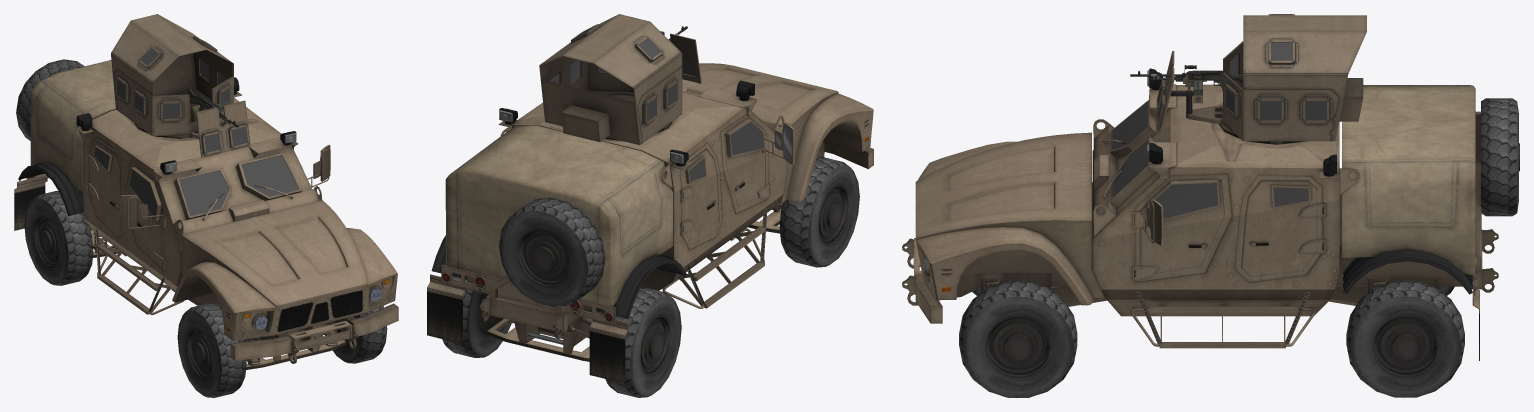
The model's file is NewJeep.fbx.
3 views of the same model, side by side, from view 1: azimuth 30°, elevation 25°; view 2: azimuth 150°, elevation 25°; view 3: azimuth 270°, elevation 25° (orthographic). The views are drawn at different scales.
Visible parts, largest first — view 1: hull_1, turret_1, passenger_side_back_wheel_1, passenger_side_front_wheel_1, glass_1, passenger_front_door_1, passenger_back_door_1, turret_glass_1, driver_side_front_wheel_1, passenger_front_window_1, driver_front_door_1, m240_1; view 2: hull_1, turret_1, passenger_side_front_wheel_1, passenger_side_back_wheel_1, passenger_front_door_1, passenger_back_door_1, driver_side_back_wheel_1, turret_glass_1, passenger_front_window_1; view 3: hull_1, turret_1, driver_side_back_wheel_1, driver_side_front_wheel_1, driver_back_door_1, driver_front_door_1, turret_glass_1, glass_1, driver_front_window_1, m240_1, driver_back_window_1, chains_1.
Boxes of the visible parts, x1,y1,x2,y2 form: hull_1: (14, 59, 398, 369); turret_1: (111, 14, 250, 157); passenger_side_back_wheel_1: (24, 191, 93, 285); passenger_side_front_wheel_1: (177, 303, 246, 397); glass_1: (179, 155, 298, 215); passenger_front_door_1: (120, 160, 166, 270); passenger_back_door_1: (87, 137, 124, 237); turret_glass_1: (116, 36, 249, 154); driver_side_front_wheel_1: (326, 306, 387, 363); passenger_front_window_1: (129, 169, 156, 217); driver_front_door_1: (295, 145, 330, 187); m240_1: (188, 87, 238, 127); hull_1: (427, 63, 873, 383); turret_1: (539, 14, 701, 144); passenger_side_front_wheel_1: (779, 157, 859, 267); passenger_side_back_wheel_1: (605, 287, 681, 397); passenger_front_door_1: (720, 114, 794, 213); passenger_back_door_1: (680, 142, 722, 249); driver_side_back_wheel_1: (442, 276, 511, 357); turret_glass_1: (549, 24, 695, 124); passenger_front_window_1: (730, 122, 763, 155); hull_1: (902, 68, 1519, 360); turret_1: (1156, 14, 1366, 144); driver_side_back_wheel_1: (1346, 281, 1464, 397); driver_side_front_wheel_1: (959, 281, 1077, 397); driver_back_door_1: (1235, 175, 1325, 282); driver_front_door_1: (1132, 174, 1232, 282); turret_glass_1: (1157, 14, 1328, 127); glass_1: (1112, 103, 1147, 197); driver_front_window_1: (1150, 183, 1218, 218); m240_1: (1130, 65, 1243, 101); driver_back_window_1: (1273, 187, 1309, 206); chains_1: (1136, 290, 1310, 344).
Size of the model in its own units: 311 by 363 by 624.
